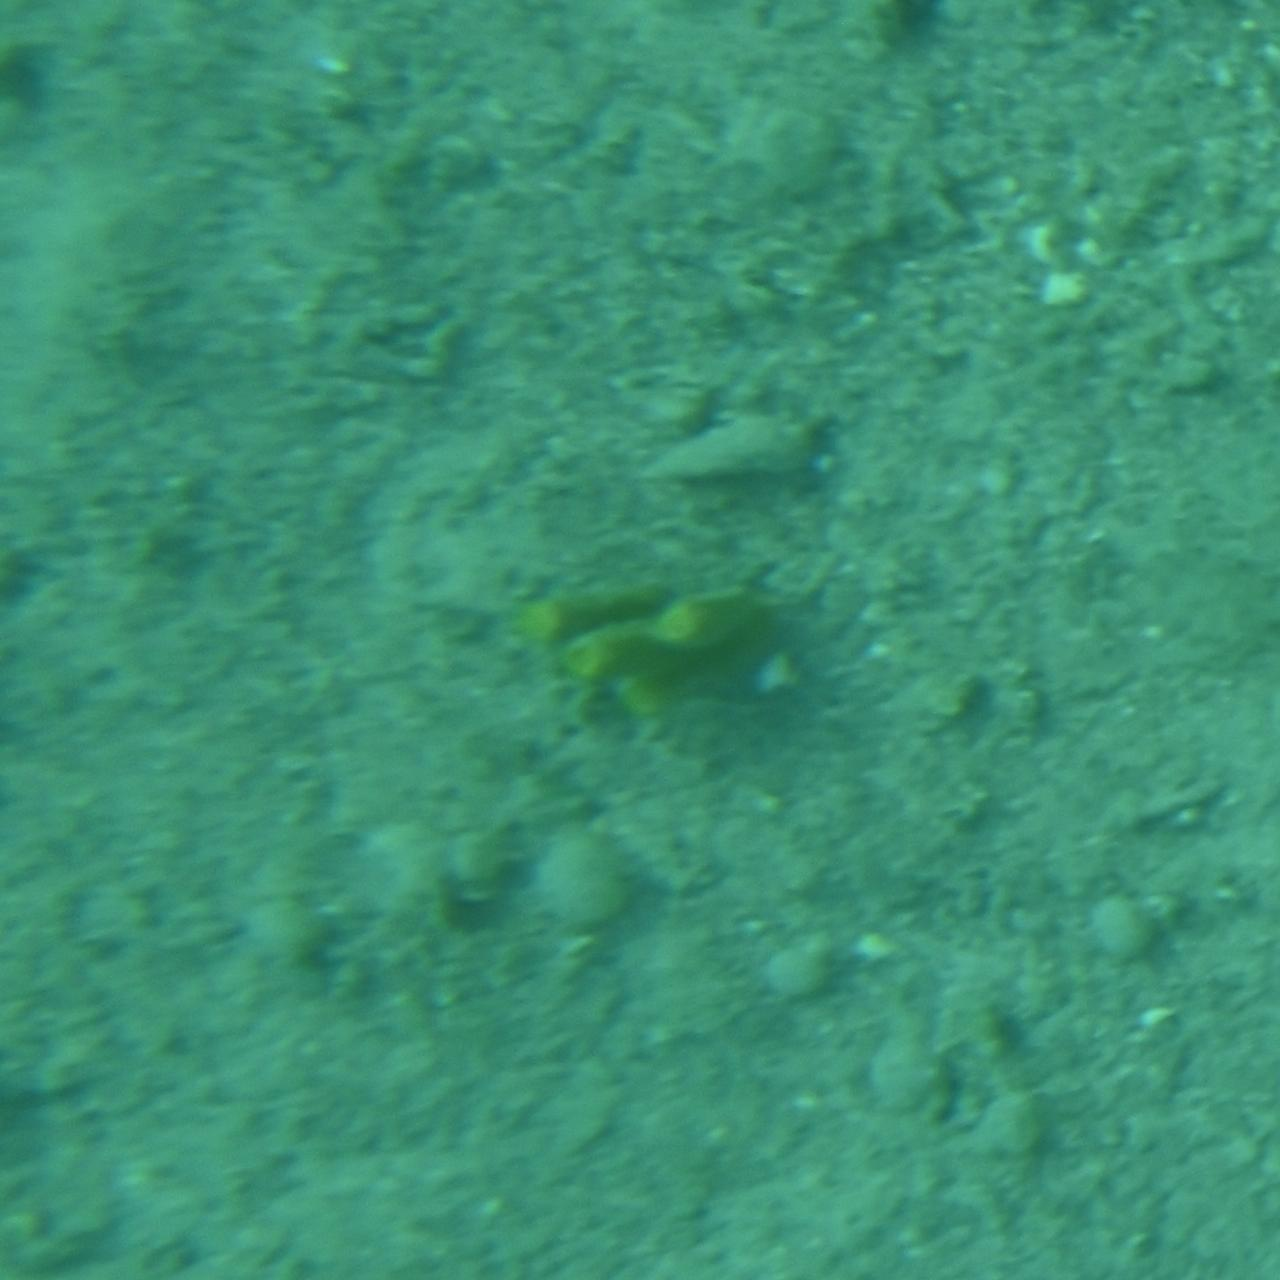Aplysina aerophoba: (501, 556, 779, 724)
